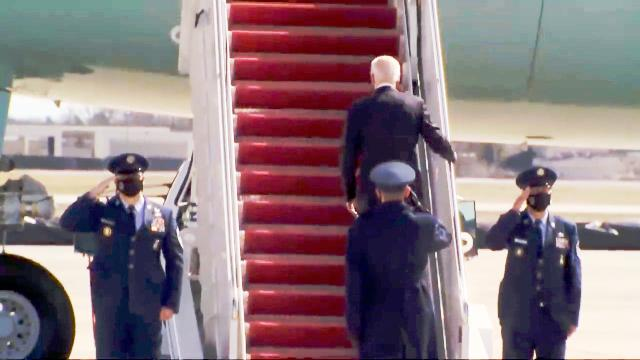berdiri: (55, 154, 189, 360), (330, 156, 452, 360), (474, 164, 584, 360)
